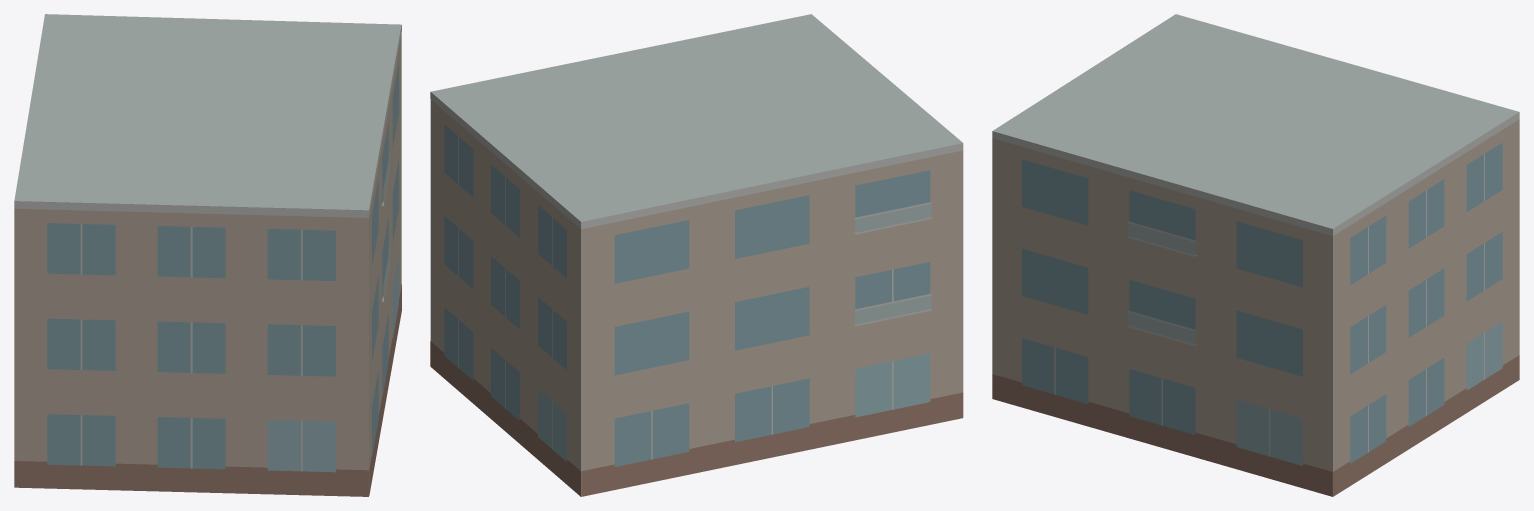
File: survey-upis-32983756.glb
The picture shows the model from 3 angles, left to right: view 1: azimuth 30°, elevation 25°; view 2: azimuth 150°, elevation 25°; view 3: azimuth 270°, elevation 25°; orthographic projection. The views are drawn at different scales.
Visible parts, largest first — view 1: survey-upis-32983756.tmp; view 2: survey-upis-32983756.tmp; view 3: survey-upis-32983756.tmp.
Part boxes in pixels (x1,y1,x2,y2): survey-upis-32983756.tmp: (14, 14, 401, 496); survey-upis-32983756.tmp: (430, 14, 963, 496); survey-upis-32983756.tmp: (992, 14, 1519, 496).
Size of the model in its own units: 15.76 by 9.15 by 16.34.
